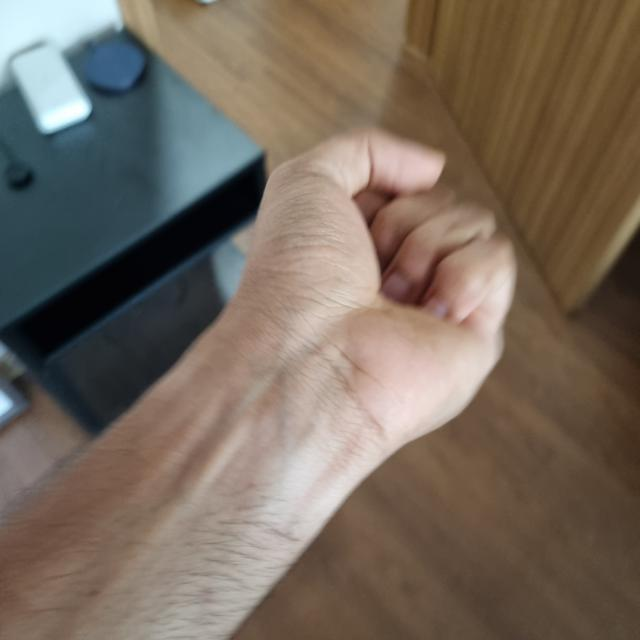Rock: (208, 134, 508, 509)
